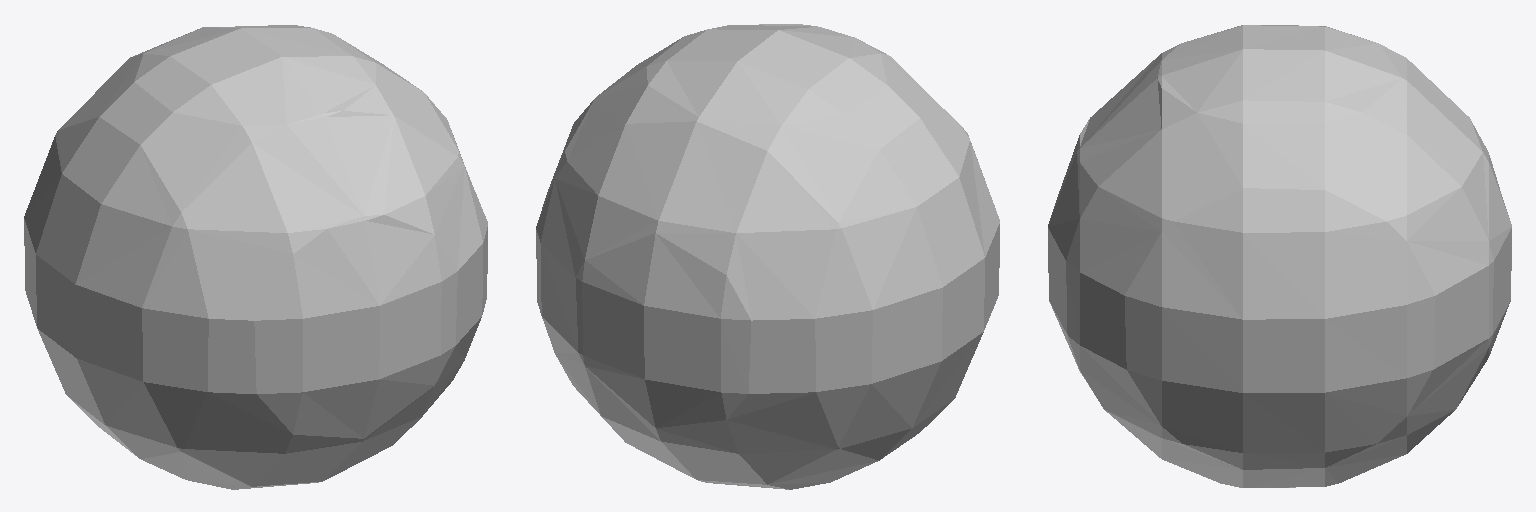
The model's file is wheel.obj.
The picture shows the model from 3 angles: view 1: azimuth 30°, elevation 25°; view 2: azimuth 150°, elevation 25°; view 3: azimuth 270°, elevation 25°; orthographic projection.
Parts seen in each view (by area): view 1: Mball; view 2: Mball; view 3: Mball.
Part boxes in pixels (left/top/right/bottom): Mball: left=24, top=25, right=487, bottom=489; Mball: left=536, top=24, right=999, bottom=489; Mball: left=1048, top=25, right=1511, bottom=487.
Size of the model in its own units: 1.12 by 1.14 by 1.14.